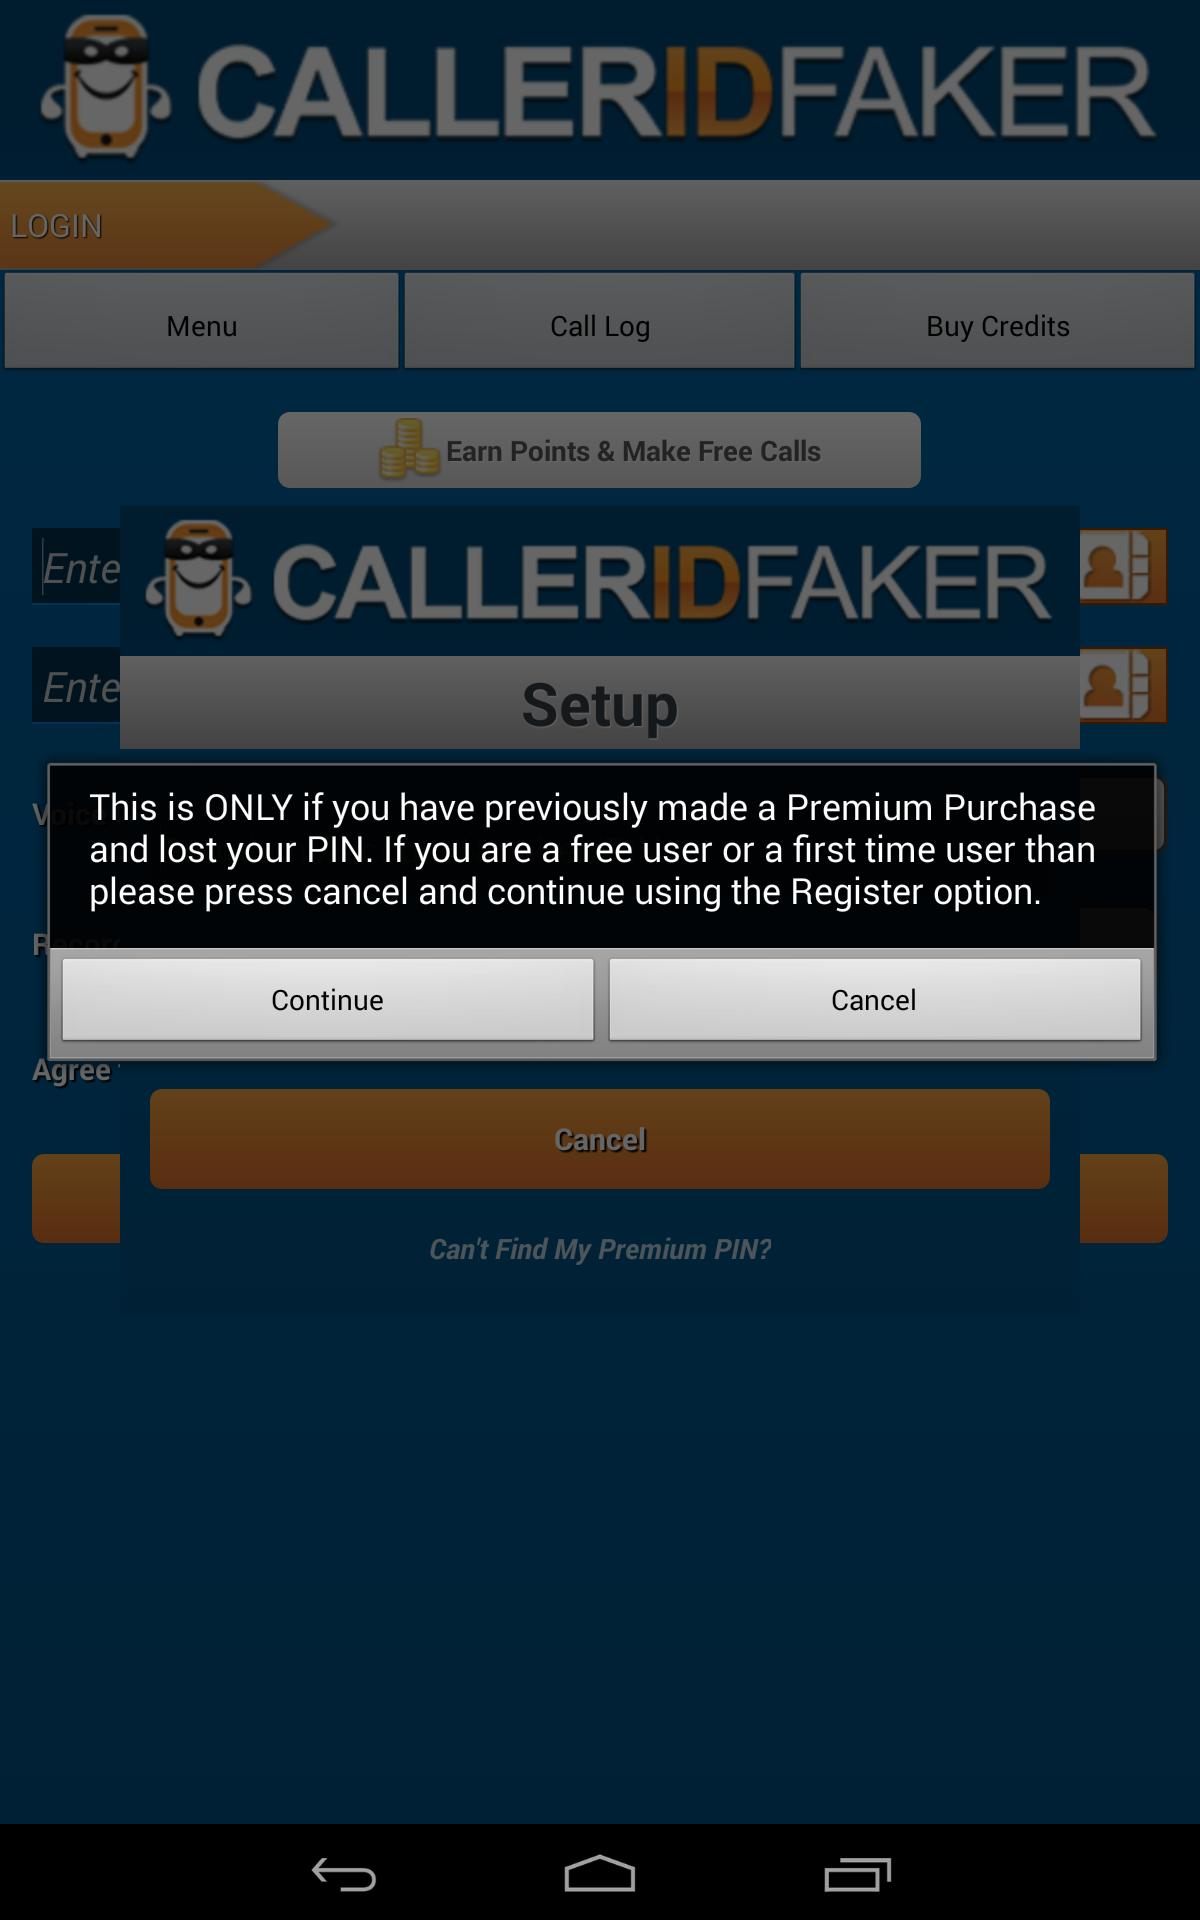android.widget.Button: (601, 957, 1149, 1052), (55, 957, 601, 1052)
android.widget.FrameLayout: (19, 728, 1181, 1093)
android.widget.LinearLayout: (19, 728, 1181, 1093), (26, 746, 1178, 948), (26, 948, 1178, 1088), (51, 948, 1153, 1057)
android.widget.ScrollView: (51, 767, 1153, 948)
android.widget.TextView: (79, 771, 1134, 923)
